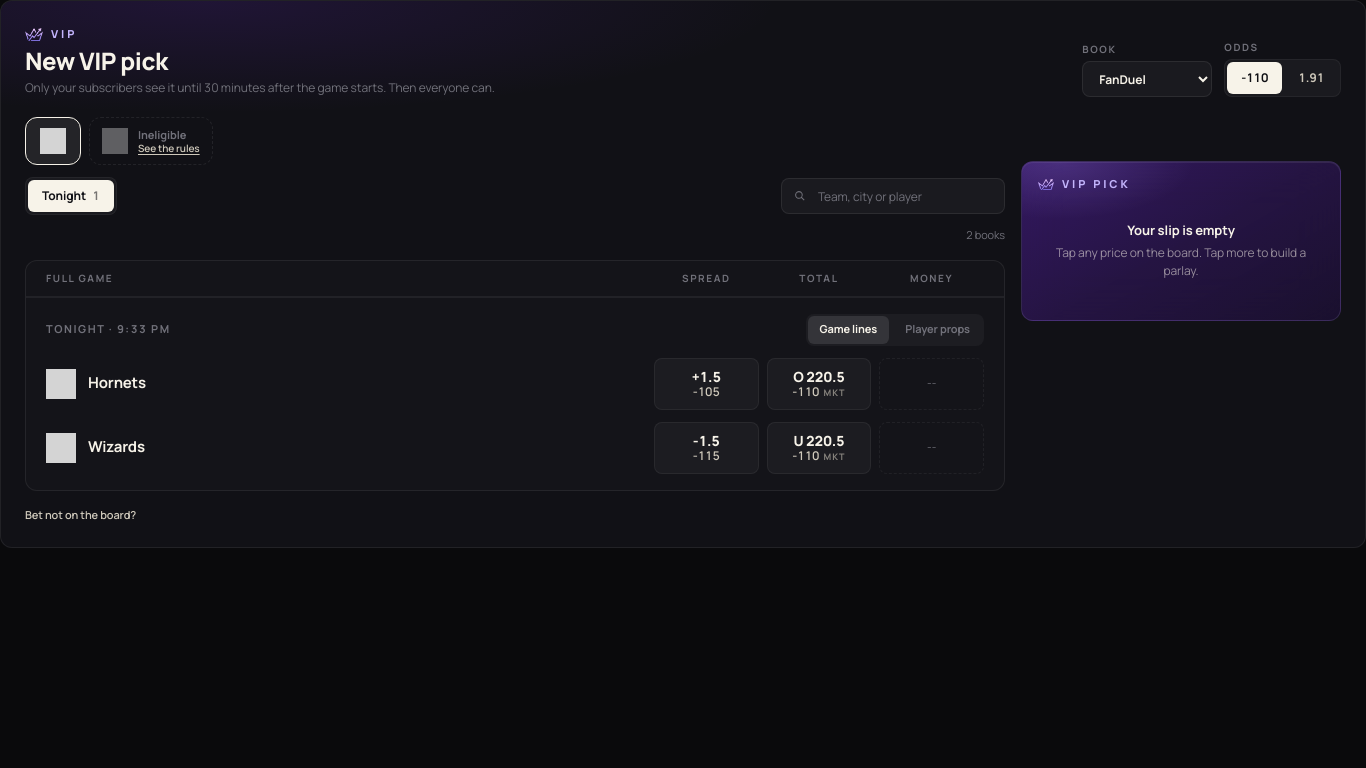
Scenario: PickBuilder › renders the board from the API and taps a price into the slip
Click the button "+1.5 -105" at (706, 384), box 654,358 -> 759,410
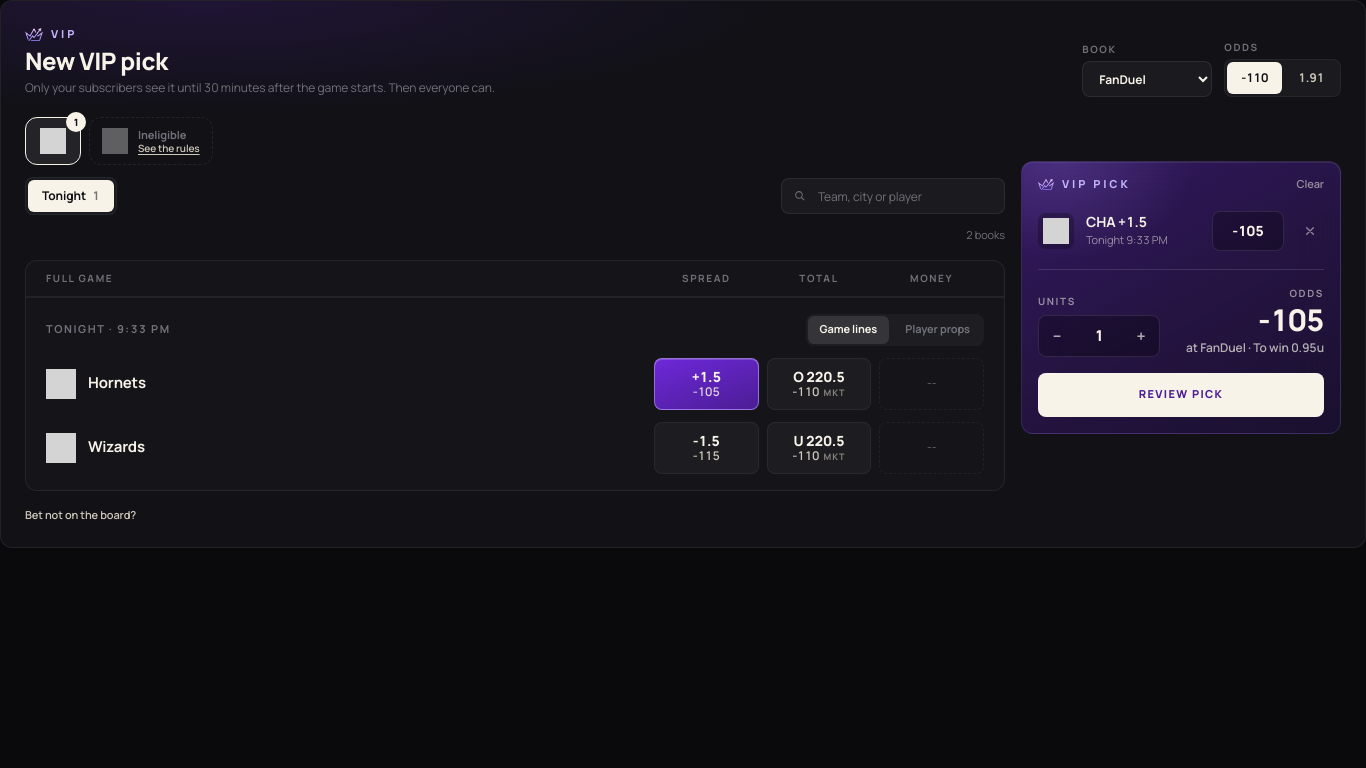
Expected: the field named "Price for CHA +1.5" holds "-105", 1212,210 -> 1284,250
